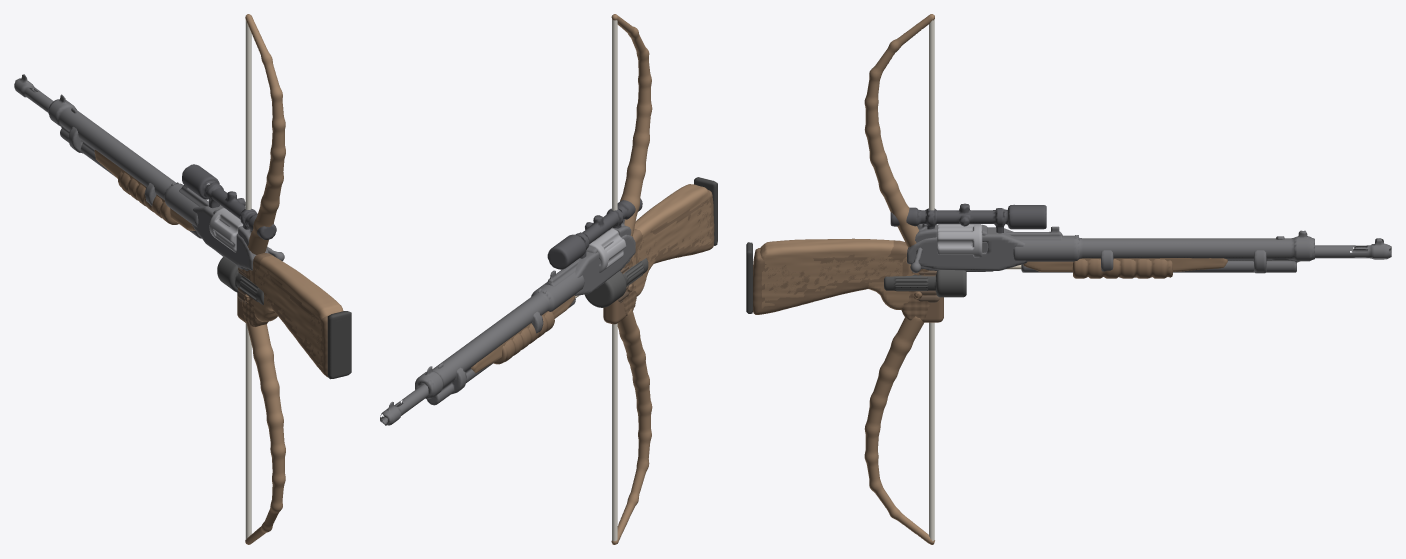
File: Weapons.glb
3 renders of one model, left to right at view 1: azimuth 30°, elevation 25°; view 2: azimuth 150°, elevation 25°; view 3: azimuth 270°, elevation 25°, orthographic.
Visible parts, largest first — view 1: Weapon_bow_Limbs, Weapon_rifle_Stock, Weapon_shotgun_Barrel, Weapon_bow_String, Weapon_rifle_Scope, Weapon_shotgun_Stock, Weapon_rifle_Pad, Weapon_shotgun_Receiver, Flashlight_Body, Weapon_revolver_Cylinder, Weapon_shotgun_Forend, Weapon_rifle_Barrel (+3 smaller); view 2: Weapon_bow_Limbs, Weapon_shotgun_Barrel, Weapon_rifle_Stock, Weapon_bow_String, Weapon_rifle_Scope, Weapon_shotgun_Stock, Weapon_shotgun_Receiver, Flashlight_Body, Weapon_shotgun_Forend, Weapon_revolver_Cylinder, Weapon_rifle_Barrel, Weapon_rifle_Forend (+2 smaller); view 3: Weapon_shotgun_Barrel, Weapon_bow_Limbs, Weapon_rifle_Stock, Weapon_shotgun_Stock, Weapon_rifle_Scope, Weapon_shotgun_Receiver, Weapon_bow_String, Weapon_shotgun_Forend, Flashlight_Body, Weapon_revolver_Cylinder, Weapon_rifle_Barrel, Weapon_rifle_Forend.
Part boxes in pixels (x1,y1,x2,y2): Weapon_bow_Limbs: [245, 14, 285, 544]; Weapon_rifle_Stock: [250, 255, 343, 368]; Weapon_shotgun_Barrel: [48, 94, 201, 238]; Weapon_bow_String: [245, 20, 251, 539]; Weapon_rifle_Scope: [182, 164, 276, 239]; Weapon_shotgun_Stock: [252, 253, 328, 377]; Weapon_rifle_Pad: [327, 316, 351, 378]; Weapon_shotgun_Receiver: [192, 205, 268, 270]; Flashlight_Body: [217, 256, 264, 304]; Weapon_revolver_Cylinder: [209, 208, 242, 252]; Weapon_shotgun_Forend: [118, 171, 178, 224]; Weapon_rifle_Barrel: [14, 74, 53, 112]; Weapon_bow_Limbs: [611, 14, 652, 544]; Weapon_shotgun_Barrel: [415, 272, 584, 405]; Weapon_rifle_Stock: [632, 184, 712, 296]; Weapon_bow_String: [612, 19, 617, 541]; Weapon_rifle_Scope: [547, 198, 642, 269]; Weapon_shotgun_Stock: [632, 190, 714, 263]; Weapon_shotgun_Receiver: [575, 234, 635, 295]; Flashlight_Body: [585, 258, 648, 307]; Weapon_shotgun_Forend: [493, 311, 554, 364]; Weapon_revolver_Cylinder: [589, 228, 626, 272]; Weapon_rifle_Barrel: [380, 384, 428, 425]; Weapon_rifle_Forend: [471, 295, 575, 373]; Weapon_shotgun_Barrel: [1013, 230, 1314, 272]; Weapon_bow_Limbs: [864, 14, 934, 544]; Weapon_rifle_Stock: [760, 238, 914, 309]; Weapon_shotgun_Stock: [753, 240, 908, 314]; Weapon_rifle_Scope: [890, 203, 1046, 233]; Weapon_shotgun_Receiver: [907, 227, 1027, 270]; Weapon_bow_String: [929, 19, 934, 541]; Weapon_shotgun_Forend: [1072, 259, 1172, 278]; Flashlight_Body: [884, 270, 966, 297]; Weapon_revolver_Cylinder: [937, 224, 982, 257]; Weapon_rifle_Barrel: [1315, 238, 1391, 259]; Weapon_rifle_Forend: [1024, 258, 1227, 271].
Size of the model in its own units: 0.2767 by 3.29 by 3.62.
